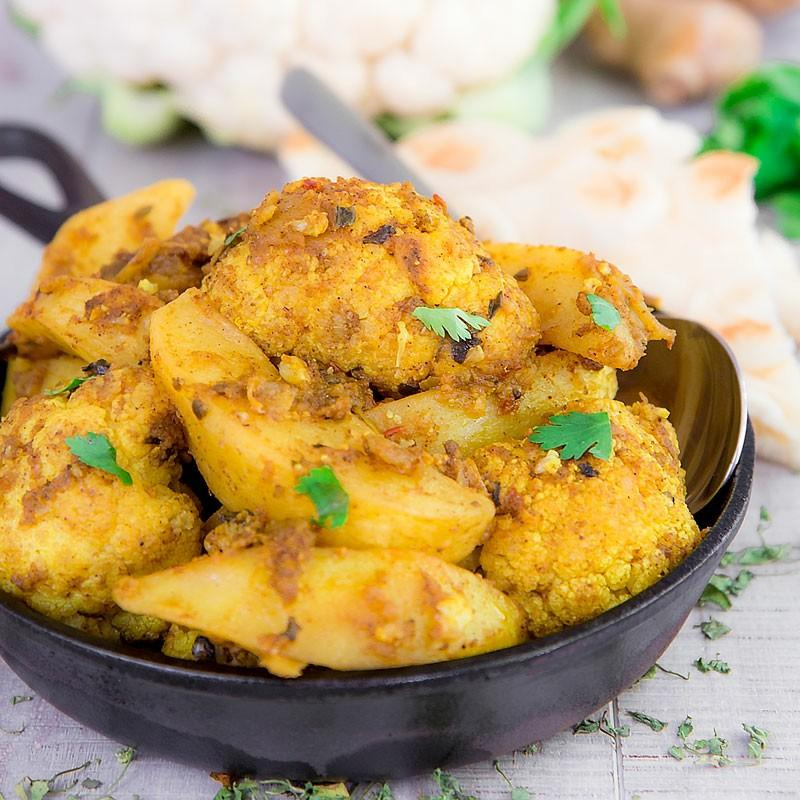AlooGobi: (1, 179, 702, 676)
